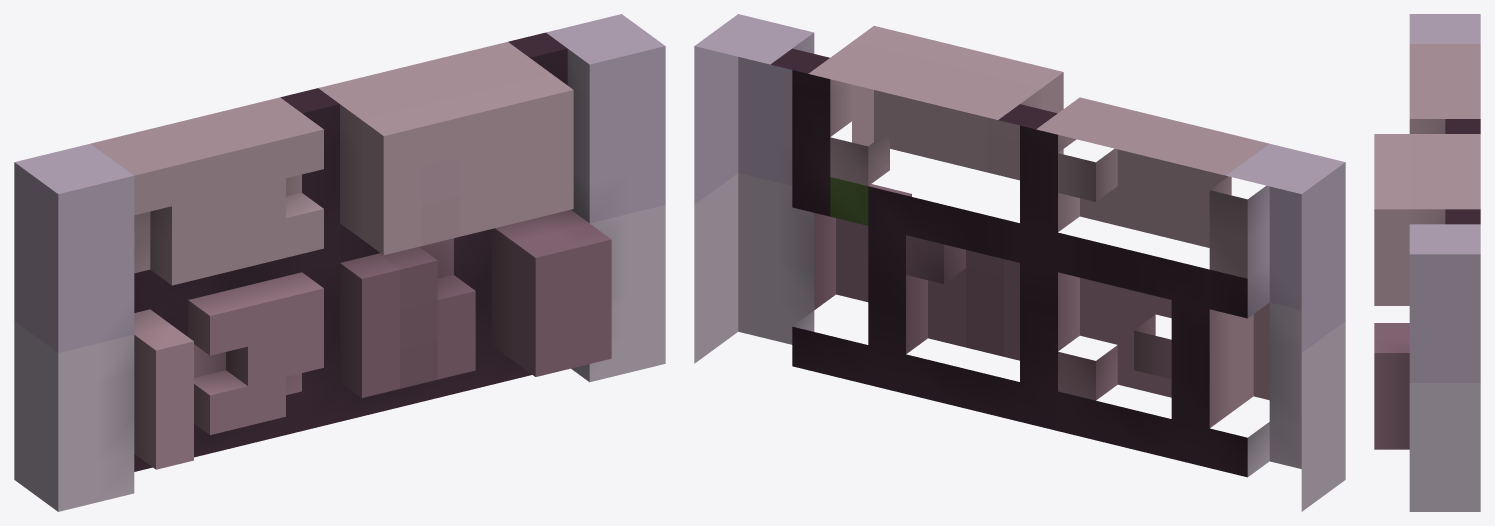
File: wall_plain_1.glb
3 views of the same model, side by side, from view 1: azimuth 30°, elevation 25°; view 2: azimuth 150°, elevation 25°; view 3: azimuth 270°, elevation 25° (orthographic). The views are drawn at different scales.
Visible parts, largest first — view 1: wall_plain_1; view 2: wall_plain_1; view 3: wall_plain_1.
Part boxes in pixels (x1,y1,x2,y2): wall_plain_1: (14, 14, 665, 511); wall_plain_1: (694, 14, 1345, 511); wall_plain_1: (1374, 14, 1480, 511).
Bounding box in the file's own units: 1 × 0.5 × 0.1875.
